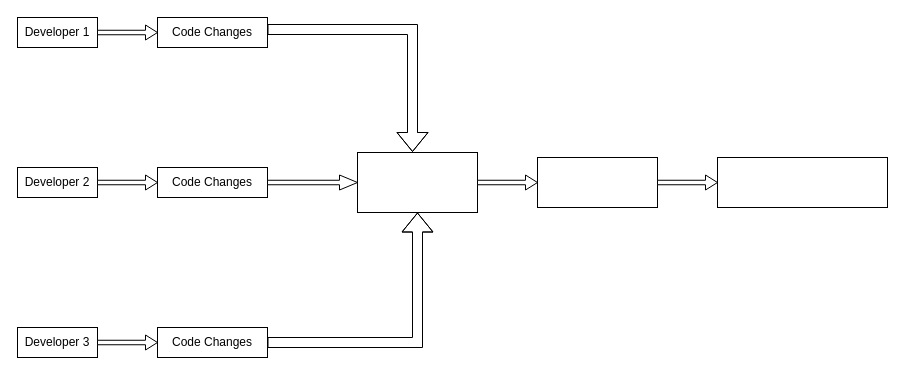
Some shapes in this 905 by 375 pixel diagram are drawn without their labels. Here are the shapes that lost their labels. From the top down, the box of each, then its label:
(356, 152, 478, 212): Repository
(536, 156, 658, 208): Testing done on combined code by QA Tester
(716, 156, 888, 208): Deploy code to production environment/ server
